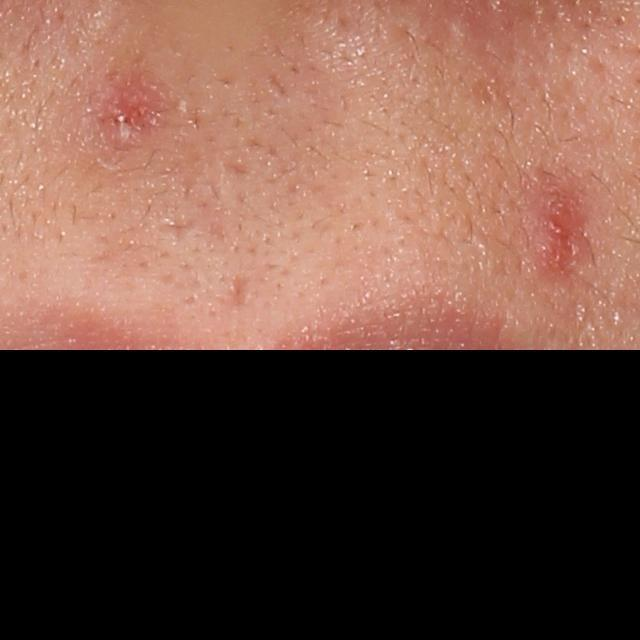atrophic_scar: (156, 212, 198, 247), (225, 268, 256, 315), (265, 68, 289, 100), (222, 157, 254, 177)
